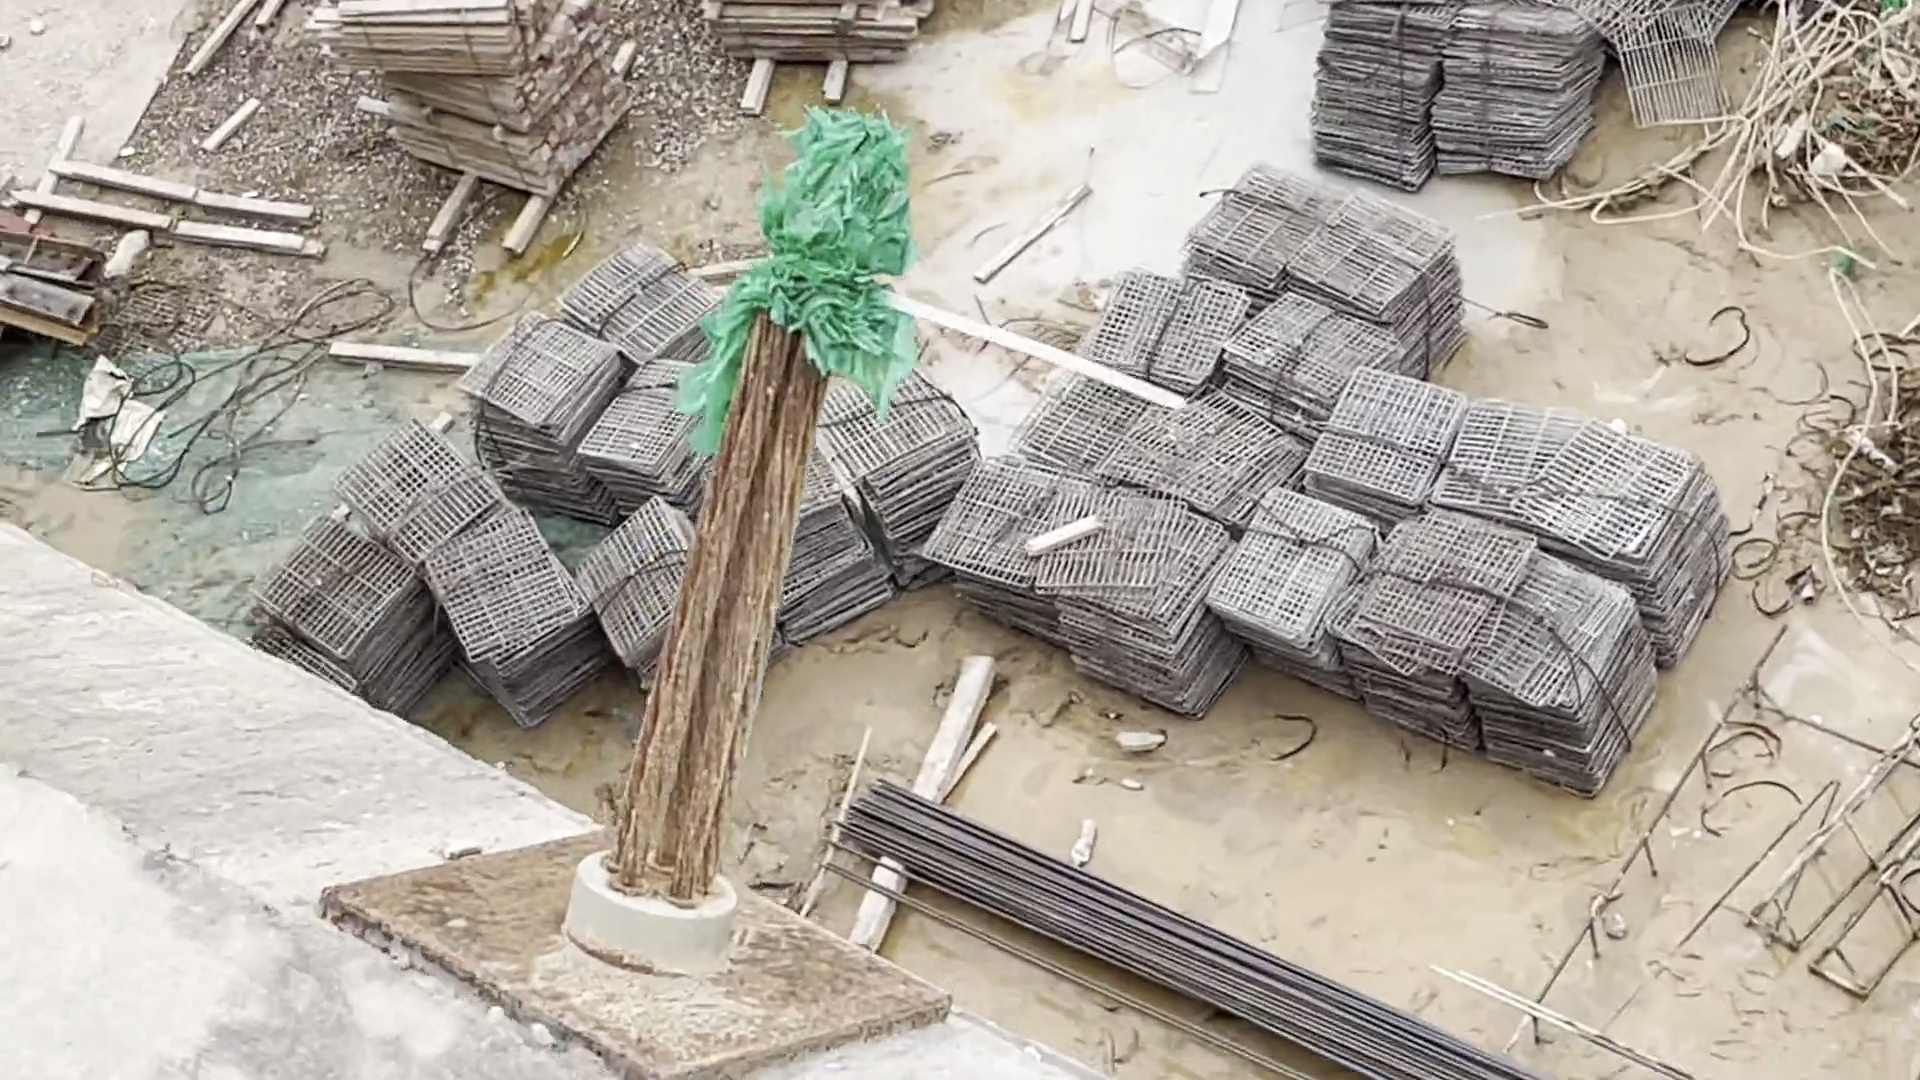rebar: (827, 777, 1526, 1080)
wood: (301, 1, 634, 200), (698, 1, 915, 65)
